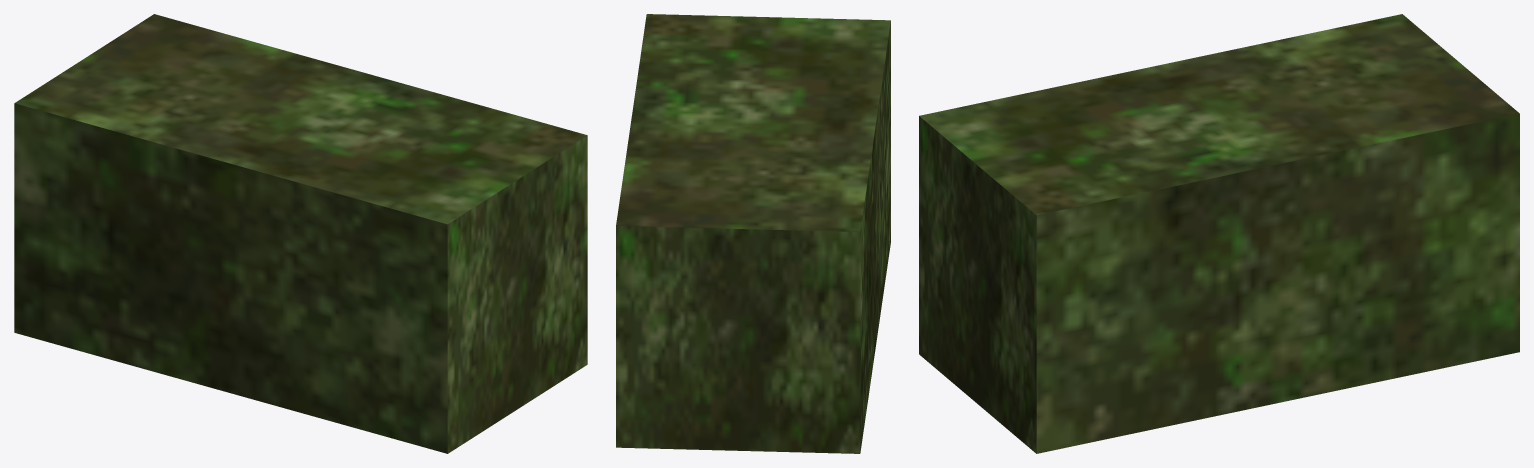
File: OVERHILL_A_01_STONE_BLOCK_21.fbx
3 views of the same model, side by side, from view 1: azimuth 30°, elevation 25°; view 2: azimuth 150°, elevation 25°; view 3: azimuth 270°, elevation 25° (orthographic). The views are drawn at different scales.
Parts seen in each view (by area): view 1: OVERHILL_A_01_STONE_BLOCK_21; view 2: OVERHILL_A_01_STONE_BLOCK_21; view 3: OVERHILL_A_01_STONE_BLOCK_21.
Part boxes in pixels (x1,y1,x2,y2): OVERHILL_A_01_STONE_BLOCK_21: (14,14,587,453); OVERHILL_A_01_STONE_BLOCK_21: (616,14,890,453); OVERHILL_A_01_STONE_BLOCK_21: (919,14,1519,453).
Bounding box in the file's own units: 14324 × 7913 × 18058.
1 material, 1 textured.
